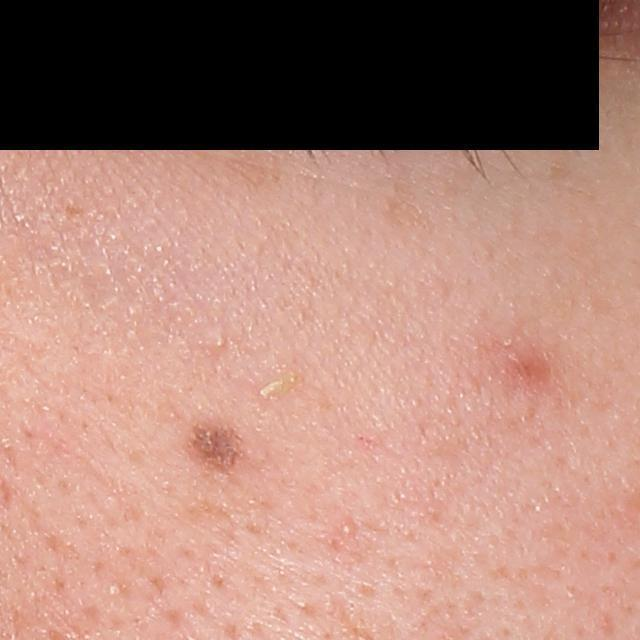comedo: (210, 329, 232, 351), (339, 520, 356, 536)
melasma: (377, 177, 445, 238)
papule: (509, 351, 541, 387)
